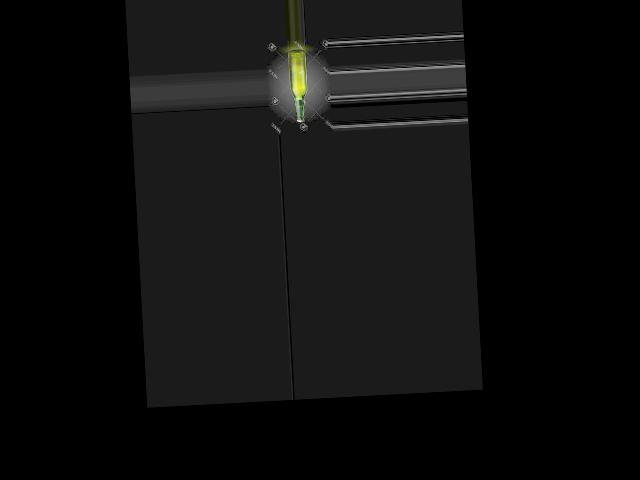beer: (288, 49, 309, 122)
